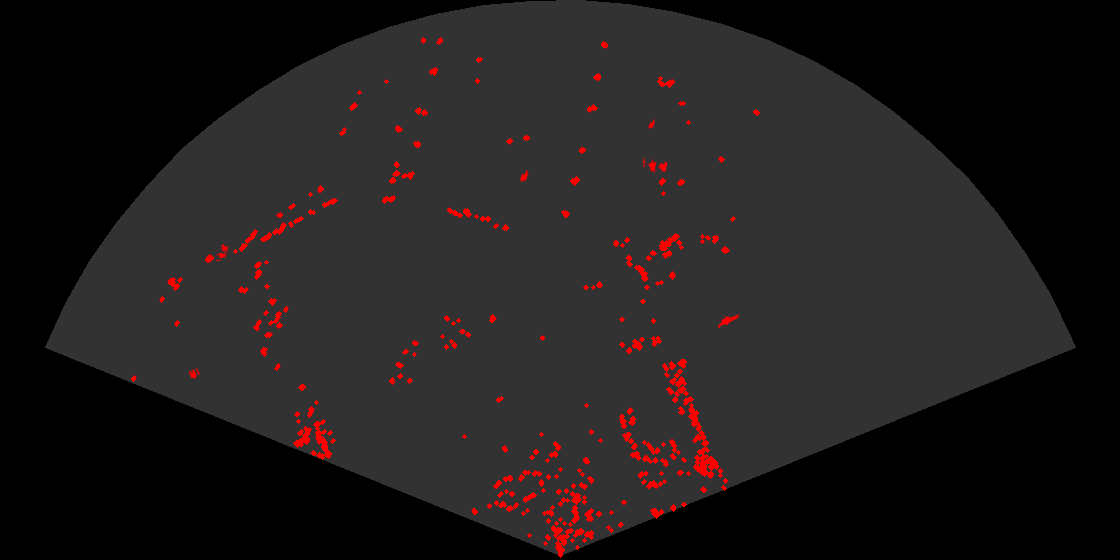AUV: (519, 169, 529, 183), (647, 117, 655, 131)
ball: (187, 367, 202, 381)
cage: (643, 156, 669, 176), (216, 243, 230, 261)
frogman: (718, 313, 741, 330)
